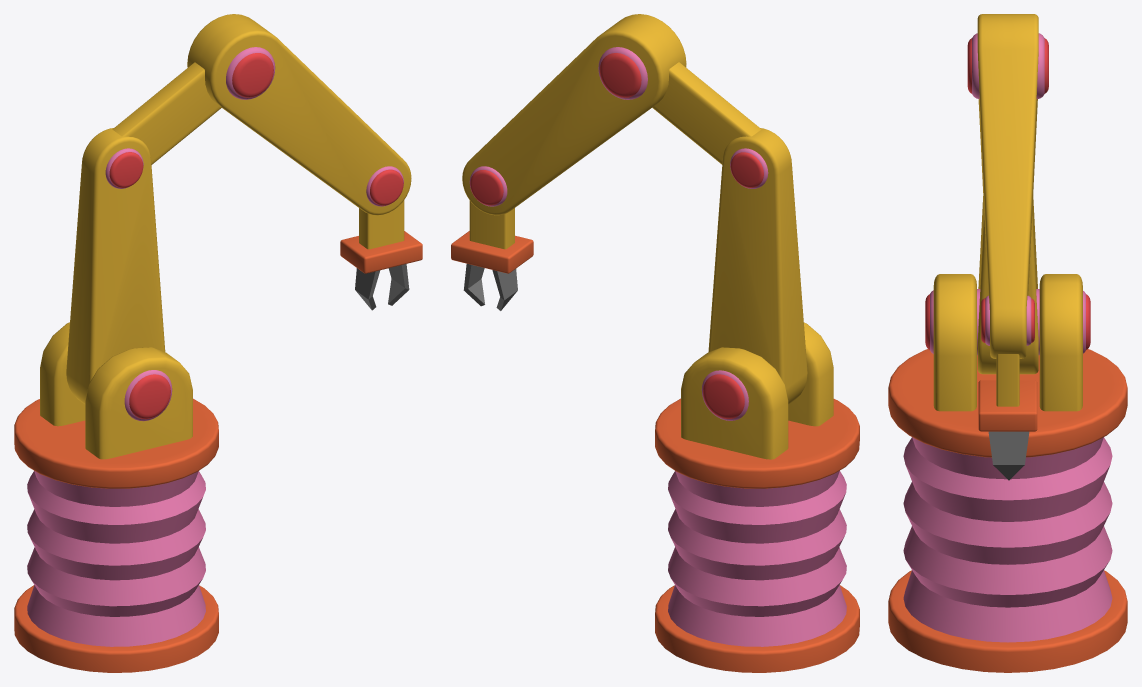
File: makina1.fbx
3 views of the same model, side by side, from view 1: azimuth 30°, elevation 25°; view 2: azimuth 150°, elevation 25°; view 3: azimuth 270°, elevation 25° (orthographic). The views are drawn at different scales.
Parts seen in each view (by area): view 1: govde, kol1, kol3, baglanti, kol2, kiskacKol, kiskac1, kiskac2; view 2: govde, kol1, kol3, baglanti, kol2, kiskacKol, kiskac1, kiskac2; view 3: govde, kol3, baglanti, kiskacKol, kol1, kiskac2.
Boxes of the visible parts, x1,y1,x2,y2 form: govde: (14,398,218,672); kol1: (66,128,172,421); kol3: (187,14,411,215); baglanti: (40,322,192,459); kol2: (112,62,221,164); kiskacKol: (340,200,422,273); kiskac1: (355,268,380,310); kiskac2: (388,264,409,305); govde: (655,398,859,672); kol1: (701,128,807,420); kol3: (462,14,686,215); baglanti: (681,322,833,459); kol2: (652,62,761,164); kiskacKol: (451,200,533,273); kiskac1: (492,269,517,310); kiskac2: (463,263,484,306); govde: (888,349,1127,672); kol3: (967,14,1048,358); baglanti: (933,274,1082,411); kiskacKol: (978,354,1037,431); kol1: (925,196,1090,374); kiskac2: (988,431,1029,480).
Bounding box in the file's own units: 494 × 710 × 229.
